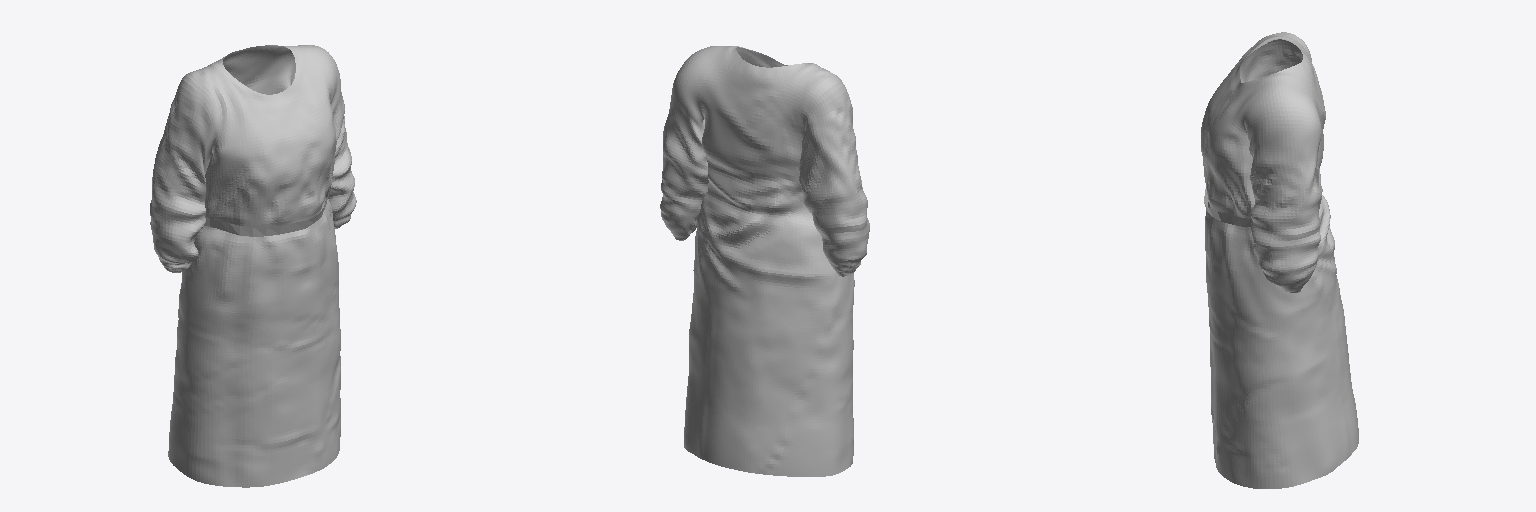
Rendered from gown_01.obj.
3 views of the same model, side by side, from view 1: azimuth 30°, elevation 25°; view 2: azimuth 150°, elevation 25°; view 3: azimuth 270°, elevation 25° (orthographic).
Parts seen in each view (by area): view 1: gown001_Mesh.005, belt001_Mesh.006; view 2: gown001_Mesh.005; view 3: gown001_Mesh.005.
Boxes of the visible parts, <box> form: gown001_Mesh.005: <box>150,45,356,487</box>; belt001_Mesh.006: <box>205,189,329,236</box>; gown001_Mesh.005: <box>660,46,869,476</box>; gown001_Mesh.005: <box>1201,32,1358,488</box>.
Bounding box in the file's own units: 5.72 × 11.06 × 3.95.